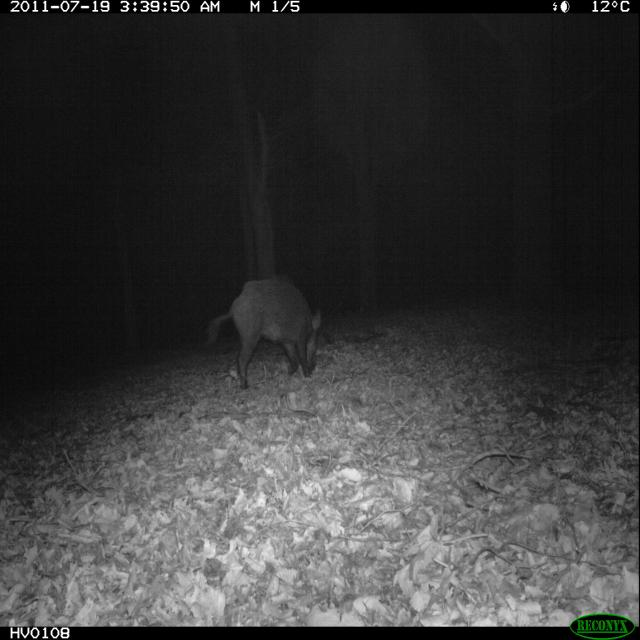boar: (191, 248, 347, 416)
